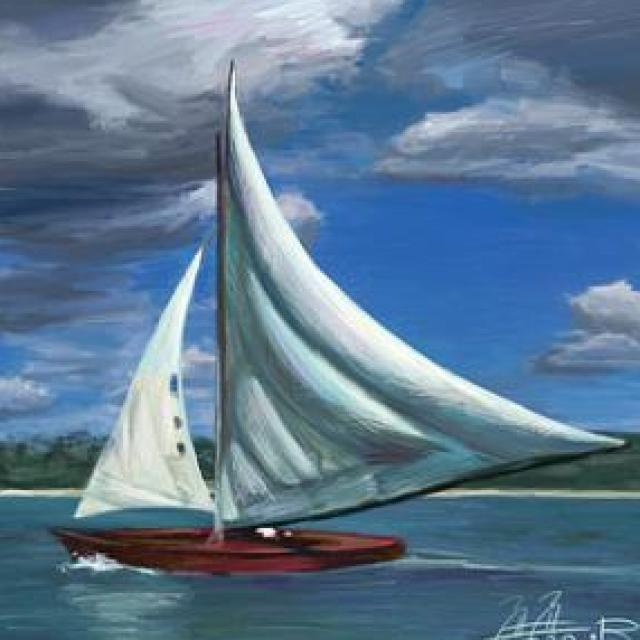sailboat: (60, 61, 597, 573)
